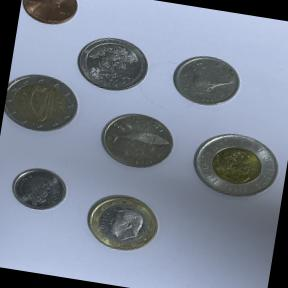coin: (183, 122, 288, 208), (74, 185, 168, 261), (92, 104, 184, 180), (69, 29, 155, 98), (1, 67, 83, 138), (6, 160, 74, 218), (17, 0, 86, 35)
